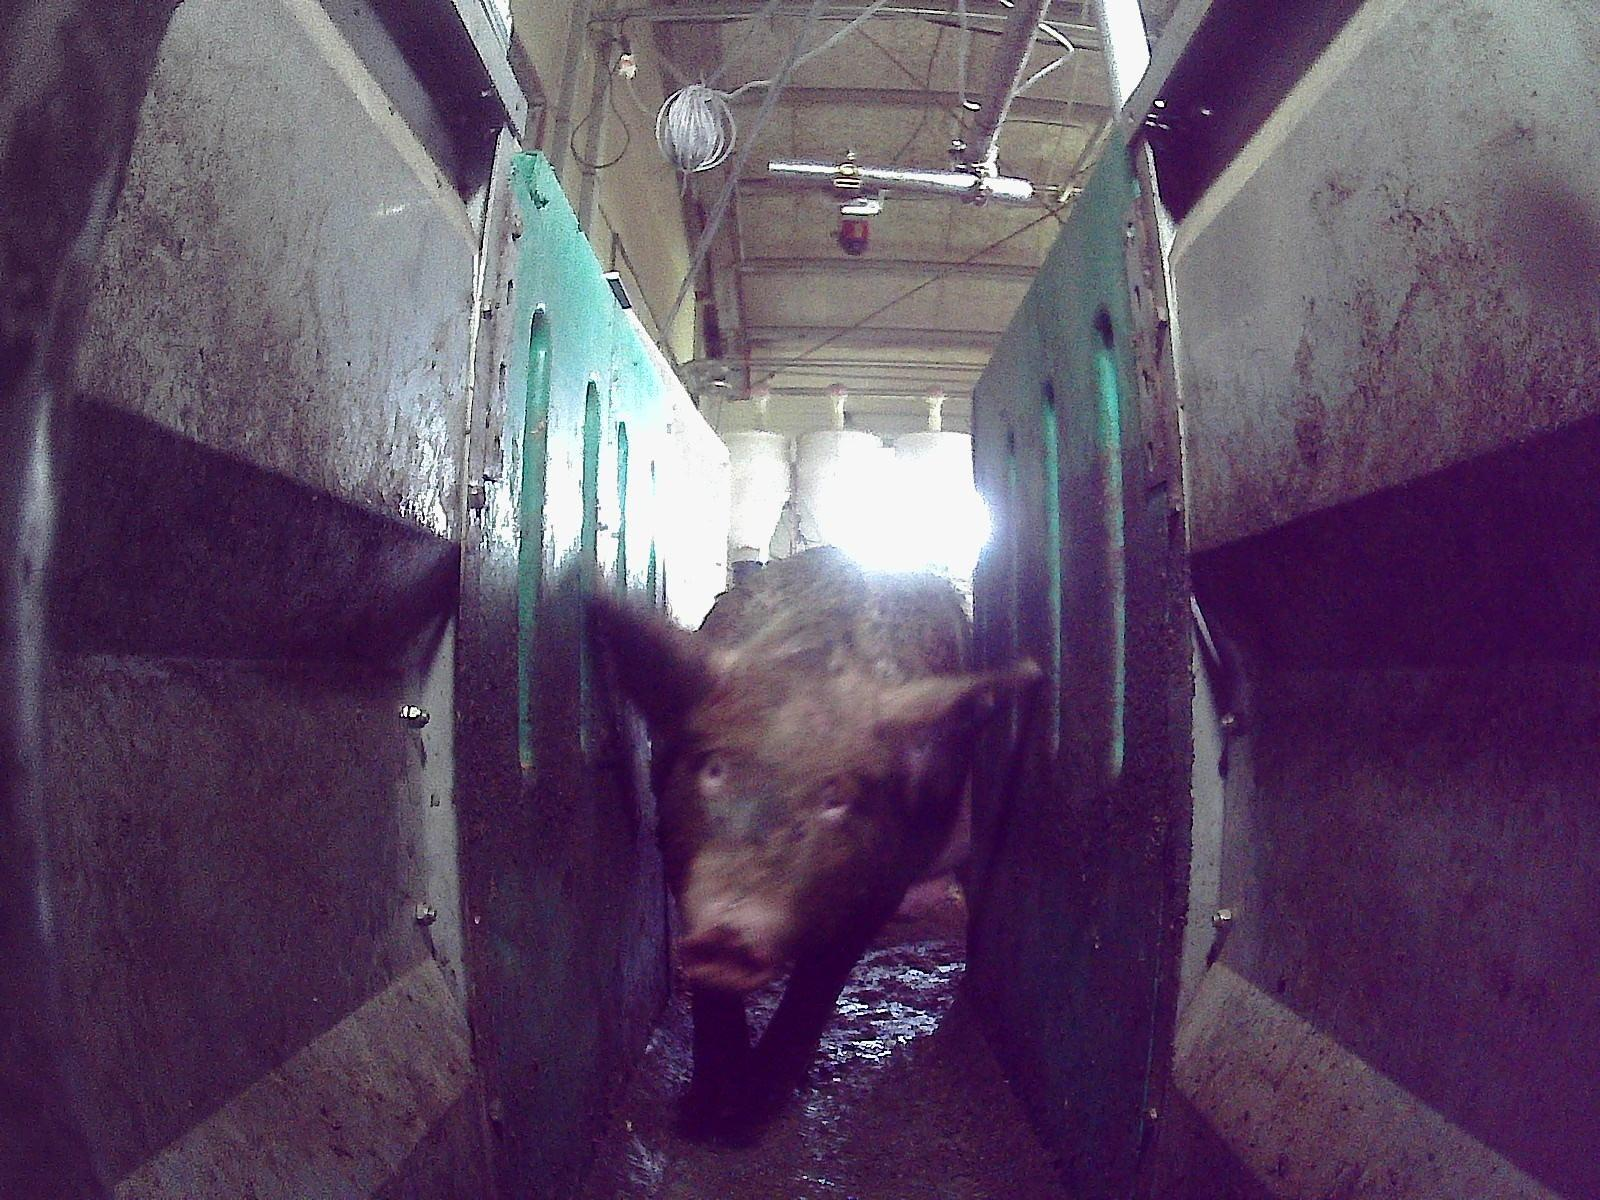Face: (652, 676, 904, 991)
